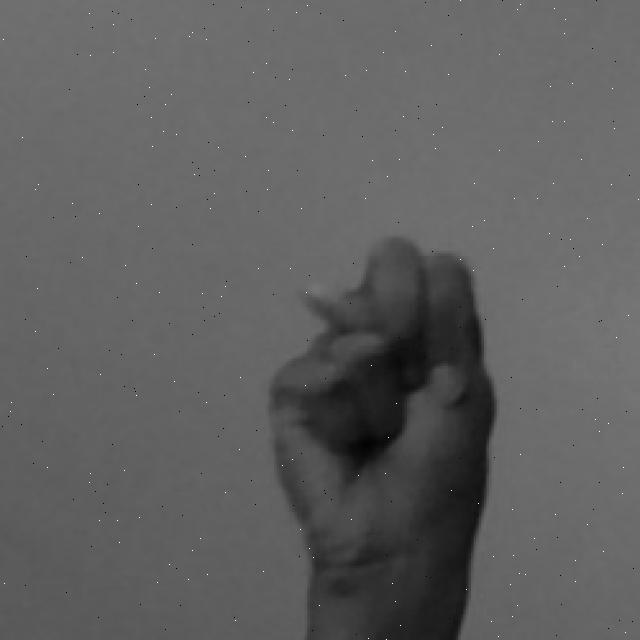N: (258, 228, 502, 640)
